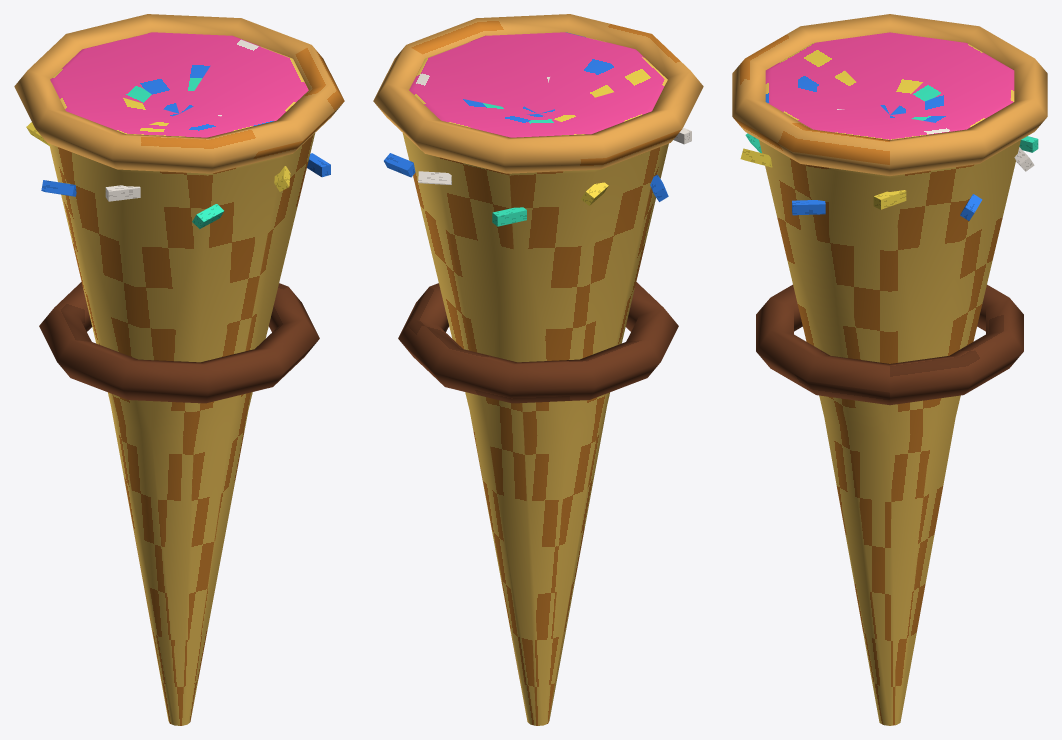
The model's file is Double Waffle Cone.fbx.
3 views of the same model, side by side, from view 1: azimuth 30°, elevation 25°; view 2: azimuth 150°, elevation 25°; view 3: azimuth 270°, elevation 25° (orthographic).
Parts seen in each view (by area): view 1: Double Waffle Cone cone, Double Waffle Cone rolled rim, Double Waffle Cone dip ring; view 2: Double Waffle Cone cone, Double Waffle Cone rolled rim, Double Waffle Cone dip ring; view 3: Double Waffle Cone cone, Double Waffle Cone rolled rim, Double Waffle Cone dip ring, Double Waffle Cone sprinkle 9.
Part boxes in pixels (box(x1,y1,x2,y2)): Double Waffle Cone cone: box(49, 32, 315, 725); Double Waffle Cone rolled rim: box(14, 14, 344, 173); Double Waffle Cone dip ring: box(39, 282, 319, 403); Double Waffle Cone cone: box(402, 32, 668, 725); Double Waffle Cone rolled rim: box(373, 14, 703, 173); Double Waffle Cone dip ring: box(398, 282, 678, 403); Double Waffle Cone cone: box(759, 32, 1020, 725); Double Waffle Cone rolled rim: box(732, 14, 1047, 175); Double Waffle Cone dip ring: box(756, 284, 1023, 405); Double Waffle Cone sprinkle 9: box(792, 200, 825, 215).
Size of the model in its own units: 0.12 by 0.2567 by 0.1141.
Materials: 7 (7 with a texture image).
